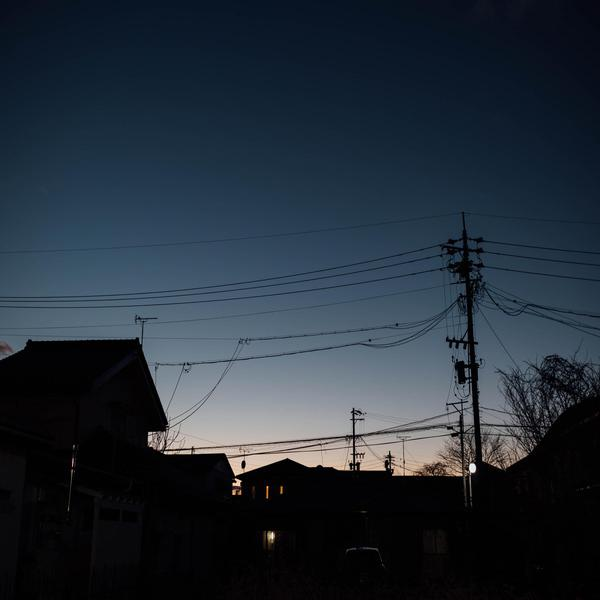utility_pole: (433, 205, 495, 316)
